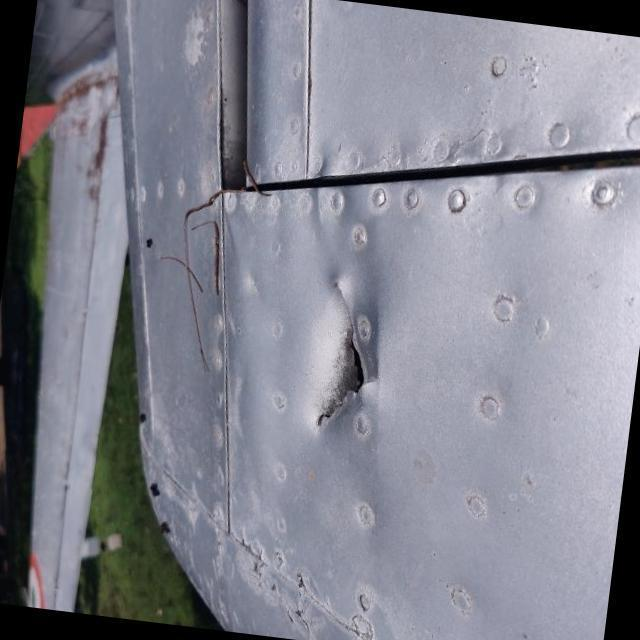Rupture: (281, 252, 418, 464)
